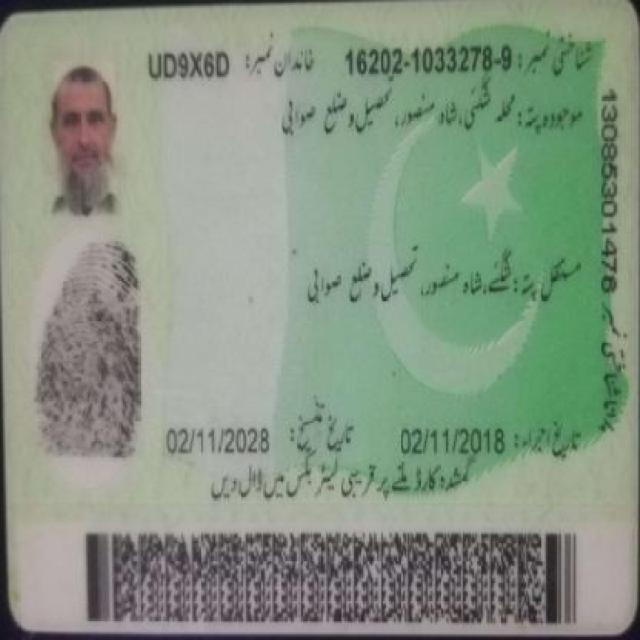Back: (14, 16, 629, 624)
